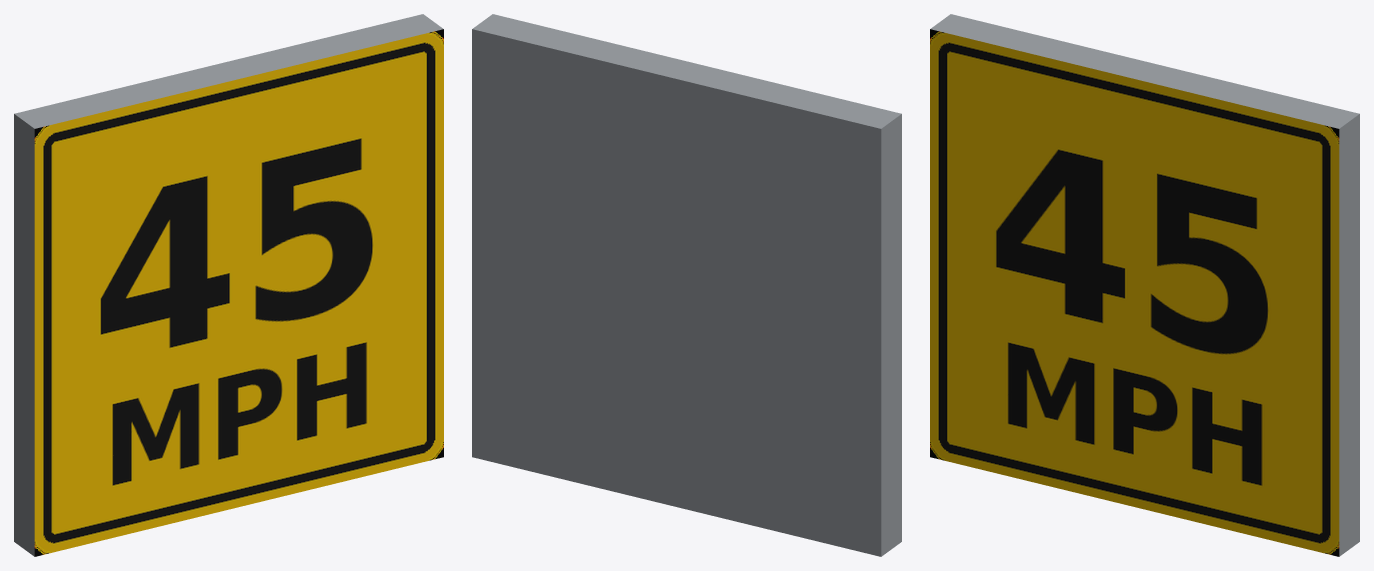
The model's file is us_advisory45.dae.
3 views of the same model, side by side, from view 1: azimuth 30°, elevation 25°; view 2: azimuth 150°, elevation 25°; view 3: azimuth 330°, elevation 25° (orthographic).
Visible parts, largest first — view 1: sign4, Colmesh-1; view 2: Colmesh-1; view 3: sign4, Colmesh-1.
Part boxes in pixels (x1,y1,x2,y2): sign4: (34,29,443,556); Colmesh-1: (14,14,443,556); Colmesh-1: (472,14,901,556); sign4: (930,29,1339,556); Colmesh-1: (930,14,1359,556).
Bounding box in the file's own units: 0.4572 × 0.04 × 0.4572.
2 materials, 1 textured.
